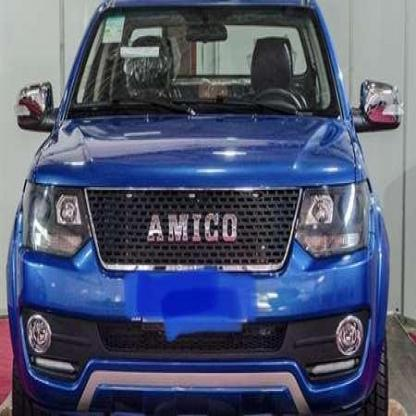Car: (8, 0, 392, 416)
